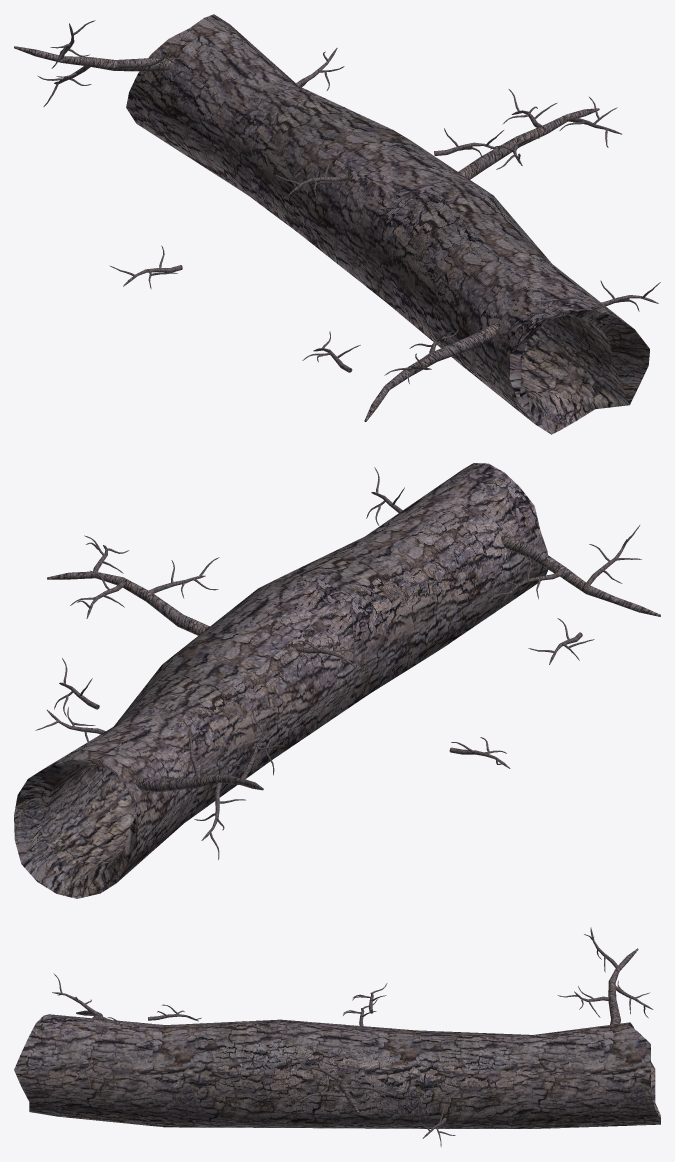
Rendered from Log.FBX.
3 renders of one model, top to bottom at view 1: azimuth 30°, elevation 25°; view 2: azimuth 150°, elevation 25°; view 3: azimuth 270°, elevation 25°, orthographic. The views are drawn at different scales.
Parts seen in each view (by area): view 1: Cylinder002, Object001, Object003, Object004, Bits, Object002; view 2: Cylinder002, Object001, Object003, Object004, Bits, Object002; view 3: Cylinder002, Object003, Object001, Bits, Object002, Object004.
Part boxes in pixels (left/top/right/bottom): Cylinder002: left=126, top=14, right=649, bottom=434; Object001: left=458, top=89, right=621, bottom=179; Object003: left=14, top=20, right=184, bottom=106; Object004: left=364, top=322, right=498, bottom=421; Bits: left=109, top=128, right=503, bottom=372; Object002: left=275, top=48, right=660, bottom=311; Cylinder002: left=14, top=463, right=547, bottom=898; Object001: left=47, top=535, right=219, bottom=635; Object003: left=134, top=709, right=284, bottom=859; Object004: left=491, top=525, right=660, bottom=616; Bits: left=54, top=618, right=594, bottom=768; Object002: left=35, top=467, right=404, bottom=741; Cylinder002: left=14, top=1014, right=660, bottom=1128; Object003: left=557, top=927, right=653, bottom=1024; Object001: left=289, top=1055, right=404, bottom=1114; Bits: left=148, top=983, right=455, bottom=1147; Object002: left=68, top=998, right=572, bottom=1091; Object004: left=52, top=973, right=116, bottom=1020.
Bounding box in the file's own units: 97.56 × 36.56 × 154.
1 material, 1 textured.
